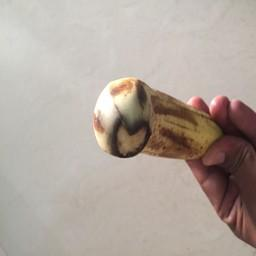Bad_banana: (92, 76, 226, 161)
